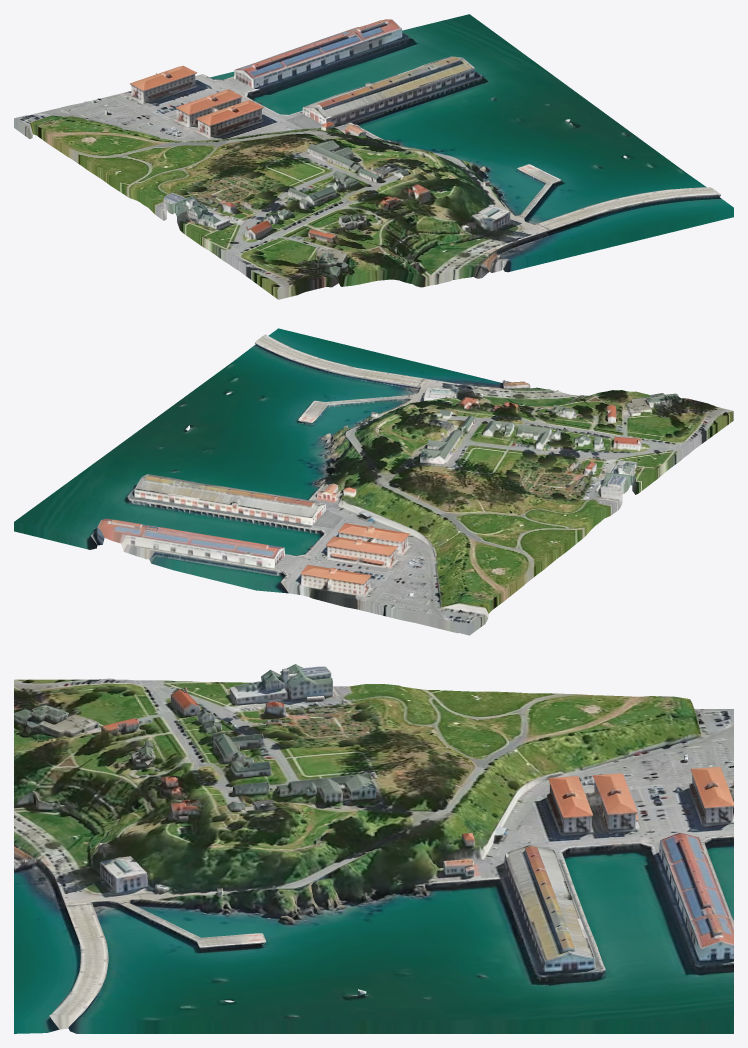
The model's file is z16-10480-25323-h0-yup-uvflip-v3-world.glb.
3 views of the same model, one above another, from view 1: azimuth 30°, elevation 25°; view 2: azimuth 150°, elevation 25°; view 3: azimuth 270°, elevation 25° (orthographic). The views are drawn at different scales.
Bounding box in the file's own units: 483 × 53.12 × 485.
Materials: 1 (1 with a texture image).
